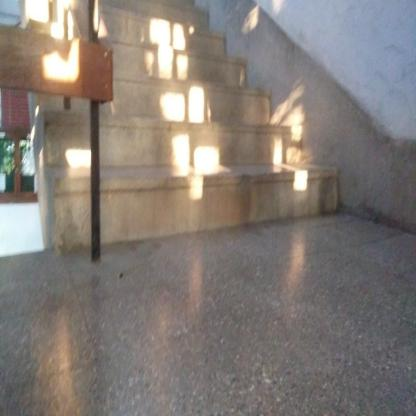stairs: (118, 43, 223, 258)
